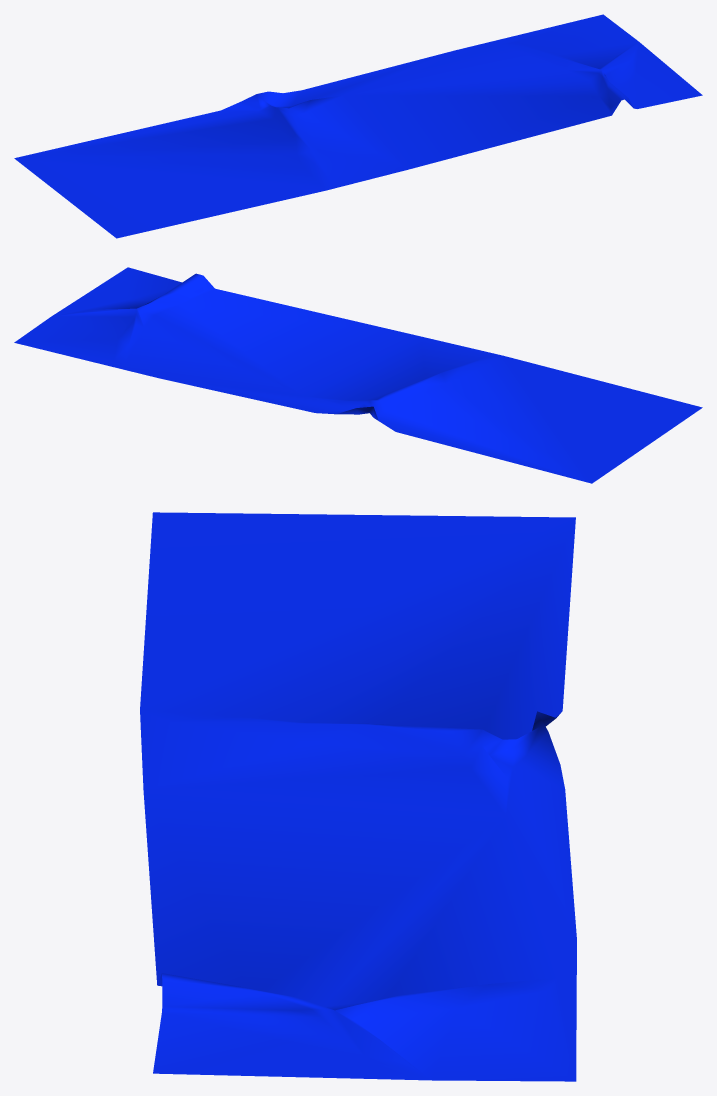
Rendered from Carpet05.fbx.
The picture shows the model from 3 angles, top to bottom: view 1: azimuth 30°, elevation 25°; view 2: azimuth 150°, elevation 25°; view 3: azimuth 270°, elevation 25°; orthographic projection. The views are drawn at different scales.
Parts seen in each view (by area): view 1: Carpet05; view 2: Carpet05; view 3: Carpet05.
Boxes of the visible parts, box(x1,y1,x2,y2) form: Carpet05: box(14, 14, 702, 238); Carpet05: box(14, 267, 702, 483); Carpet05: box(140, 512, 576, 1081).
Bounding box in the file's own units: 117 × 2.77 × 38.08.
